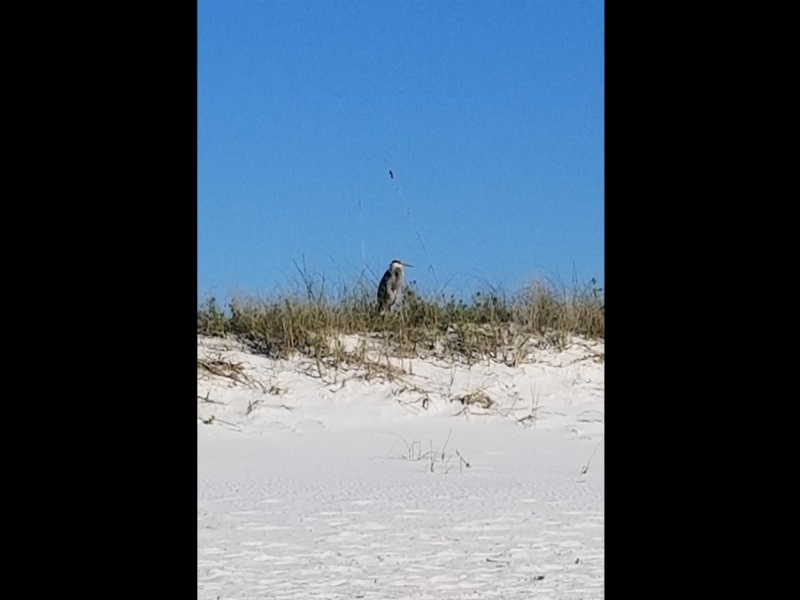heron: (376, 257, 410, 320)
